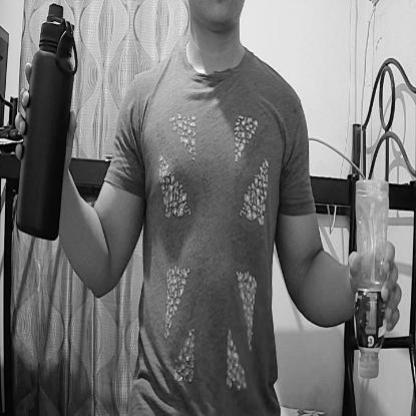Plastic Bottle: (333, 166, 407, 407)
